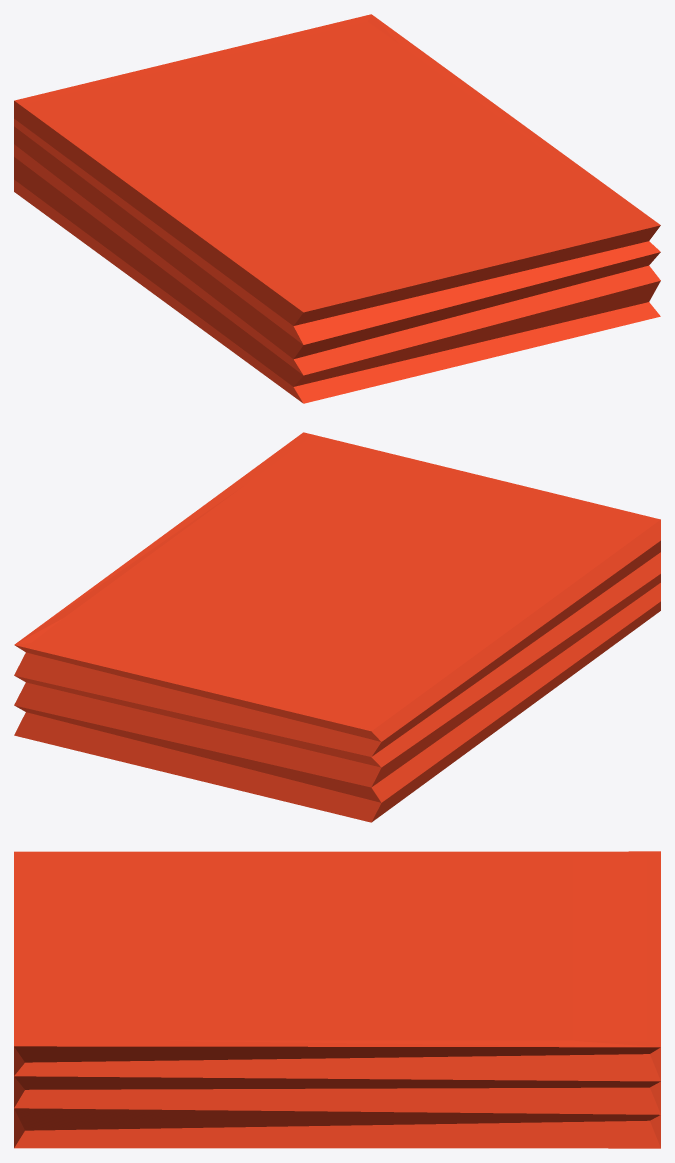
File: SM_Newspaper_A_Sorted_City.fbx
3 renders of one model, top to bottom at view 1: azimuth 30°, elevation 25°; view 2: azimuth 150°, elevation 25°; view 3: azimuth 270°, elevation 25°, orthographic. The views are drawn at different scales.
Parts seen in each view (by area): view 1: SM_Newspaper_A_Sorted_City; view 2: SM_Newspaper_A_Sorted_City; view 3: SM_Newspaper_A_Sorted_City.
Boxes of the visible parts, bbox=[...] form: SM_Newspaper_A_Sorted_City: bbox=[14, 14, 660, 403]; SM_Newspaper_A_Sorted_City: bbox=[14, 432, 660, 822]; SM_Newspaper_A_Sorted_City: bbox=[14, 851, 660, 1148].
Size of the model in its own units: 0.2796 by 0.0673 by 0.3867.
